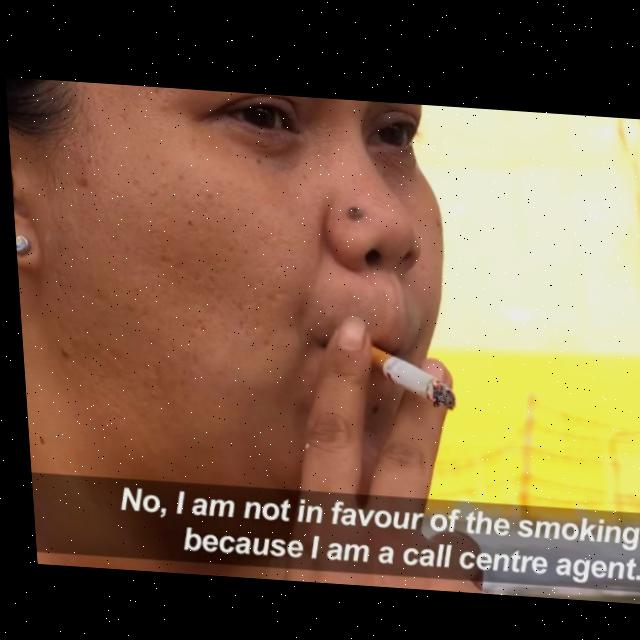cigarette: (366, 341, 451, 404)
